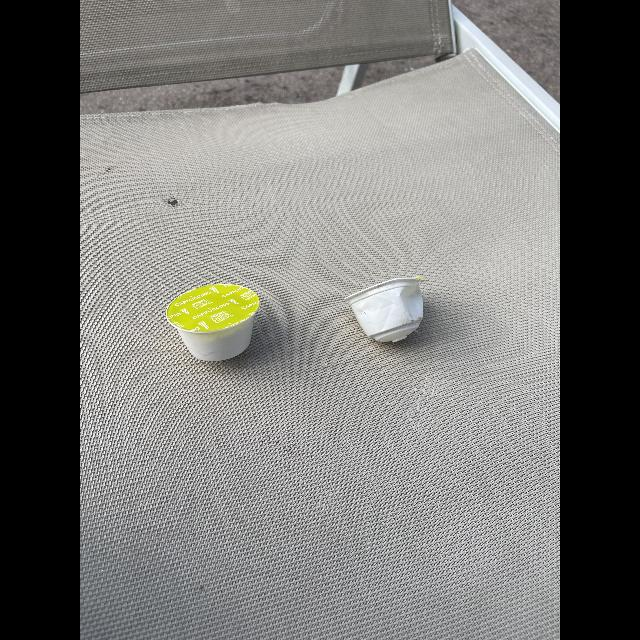damaged_capsule: (342, 275, 428, 345)
intact_capsule: (163, 281, 265, 363)
